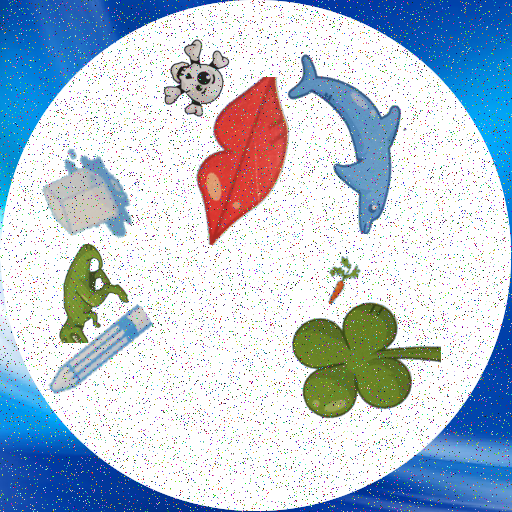carrot_icon: (318, 256, 370, 308)
cloverleaf_icon: (284, 294, 441, 451)
cube_icon: (26, 145, 139, 258)
dino_icon: (30, 244, 129, 343)
dolphin_icon: (258, 48, 444, 234)
lips_icon: (168, 77, 336, 245)
pen_icon: (38, 291, 159, 412)
skull_icon: (154, 39, 239, 124)
